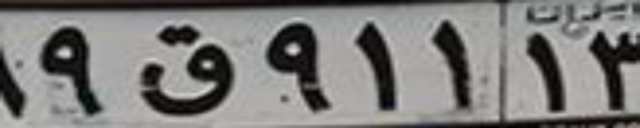1: (428, 18, 471, 110), (354, 21, 395, 112), (523, 31, 565, 112)
3: (587, 29, 638, 110)
8: (0, 25, 24, 117)
9: (262, 21, 334, 111), (37, 25, 102, 113)
ghaf: (134, 23, 234, 116)
